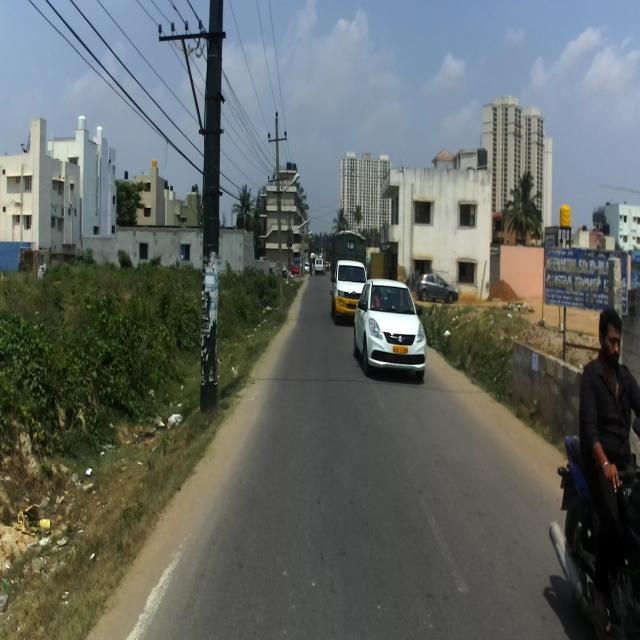bus ahead at: (160, 0, 227, 405)
car ahead at: (353, 279, 428, 378)
